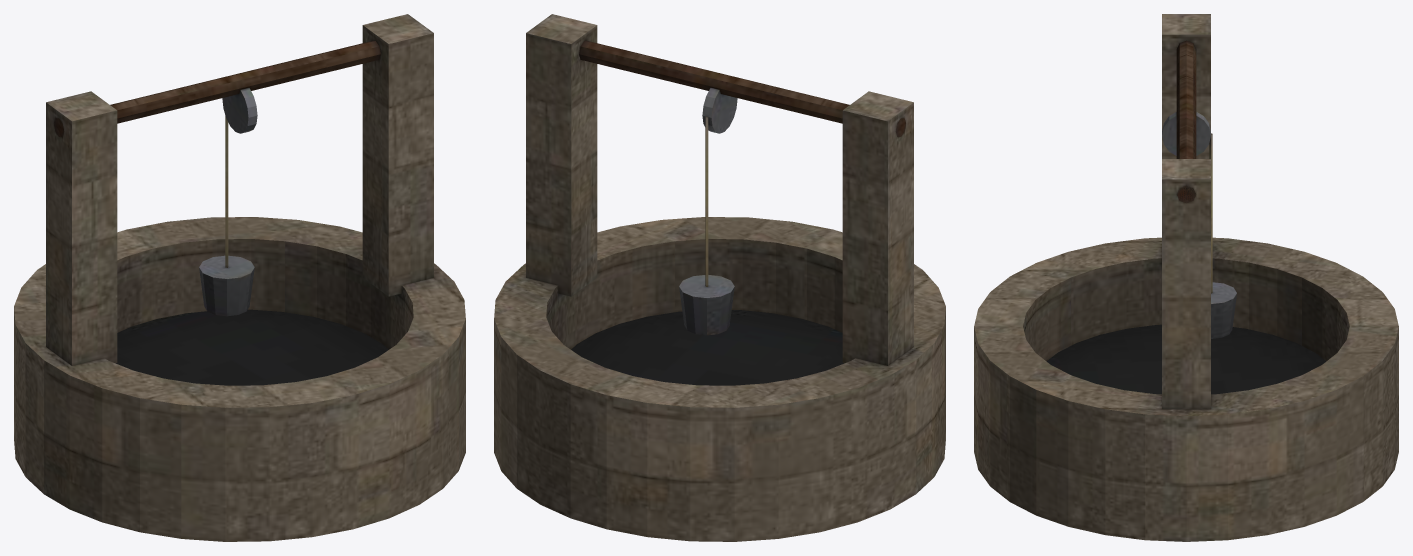
File: well.glb
3 views of the same model, side by side, from view 1: azimuth 30°, elevation 25°; view 2: azimuth 150°, elevation 25°; view 3: azimuth 270°, elevation 25° (orthographic). The views are drawn at different scales.
Parts seen in each view (by area): view 1: well; view 2: well; view 3: well.
Boxes of the visible parts, box(x1,y1,x2,y2) form: well: box(14, 14, 465, 541); well: box(494, 14, 945, 541); well: box(974, 14, 1398, 541).
Bounding box in the file's own units: 2.6 × 2.4 × 2.6.
1 material, 1 textured.
